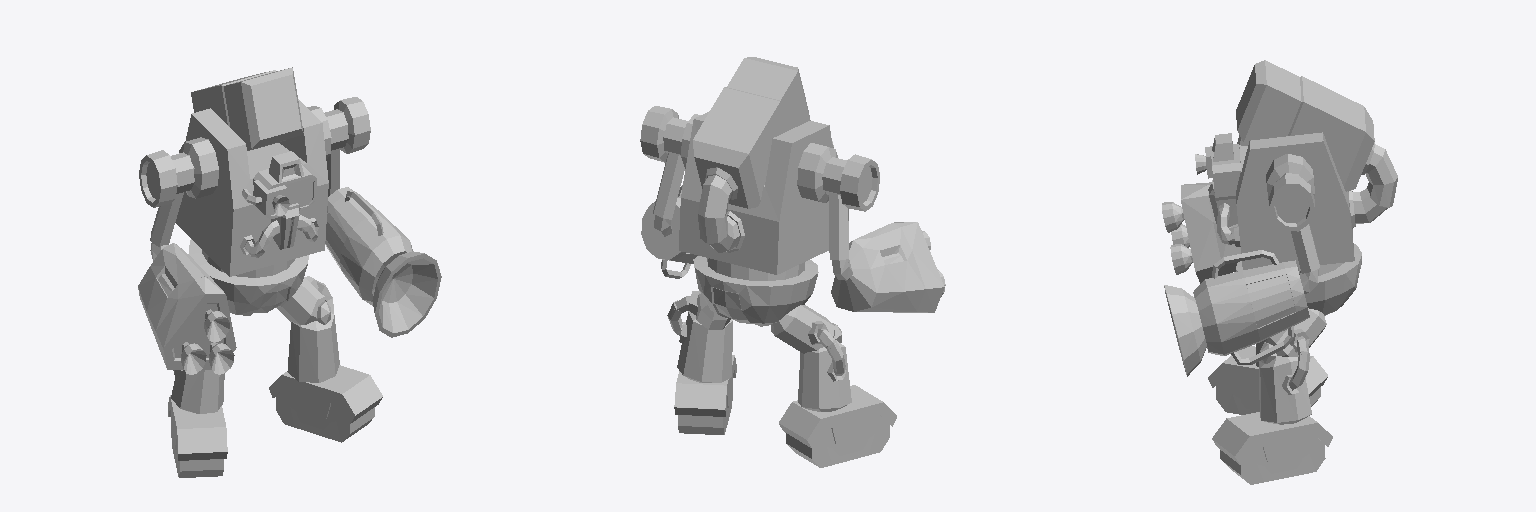
The model's file is AssaultBomber.obj.
3 renders of one model, left to right at view 1: azimuth 30°, elevation 25°; view 2: azimuth 150°, elevation 25°; view 3: azimuth 270°, elevation 25°, orthographic.
Visible parts, largest first — view 1: Mesh.564_DrawCall_420; view 2: Mesh.564_DrawCall_420; view 3: Mesh.564_DrawCall_420.
Boxes of the visible parts, x1,y1,x2,y2 form: Mesh.564_DrawCall_420: [138, 67, 441, 477]; Mesh.564_DrawCall_420: [640, 57, 945, 467]; Mesh.564_DrawCall_420: [1162, 60, 1397, 484].
Size of the model in its own units: 44.18 by 58.26 by 33.61.